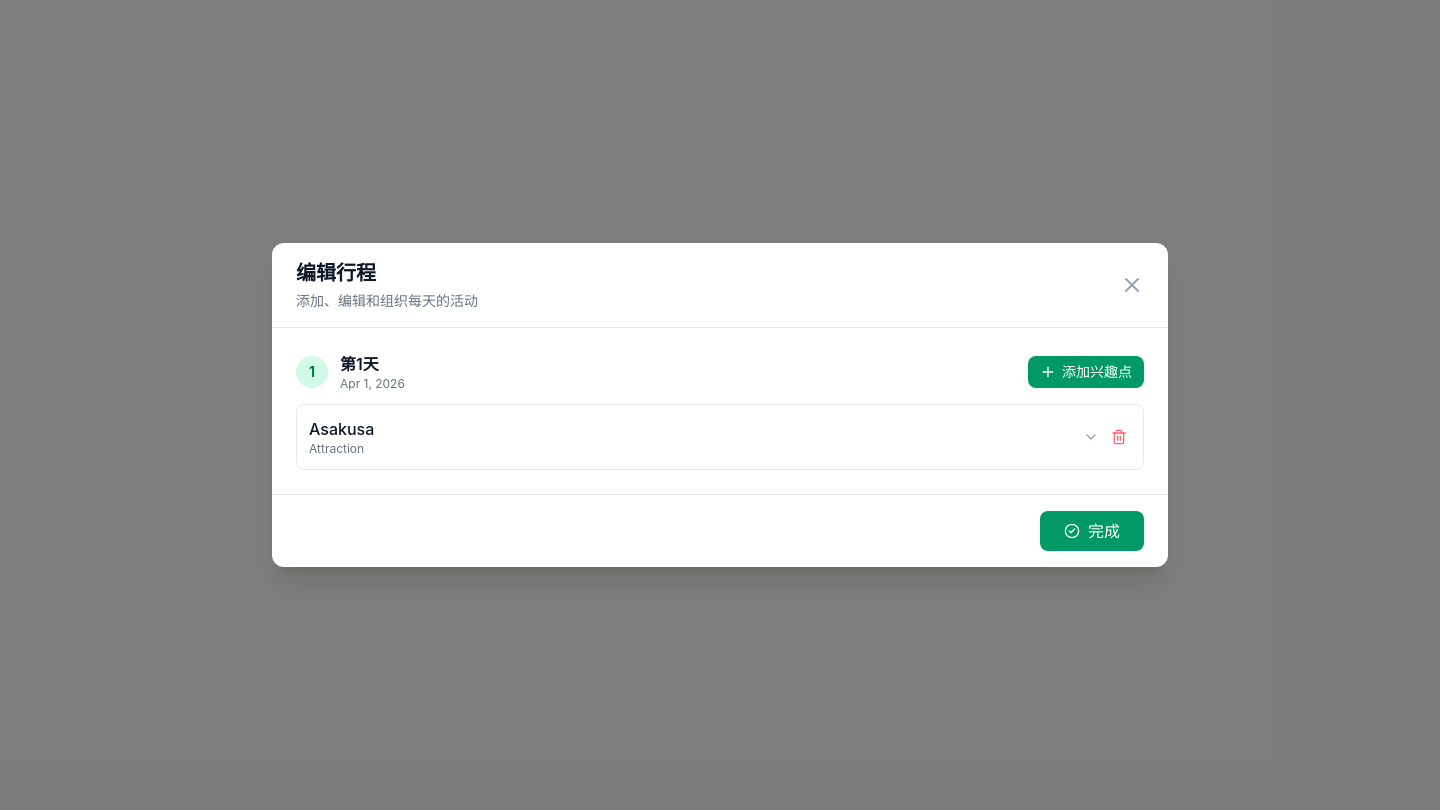
itineraryEditor › removes an item and shows the empty day state
Expected: the heading "Asakusa" is shown, [309,419,374,439]
Step 1. Click the button named "移除" → (1119, 437), box [1107,425,1131,449]
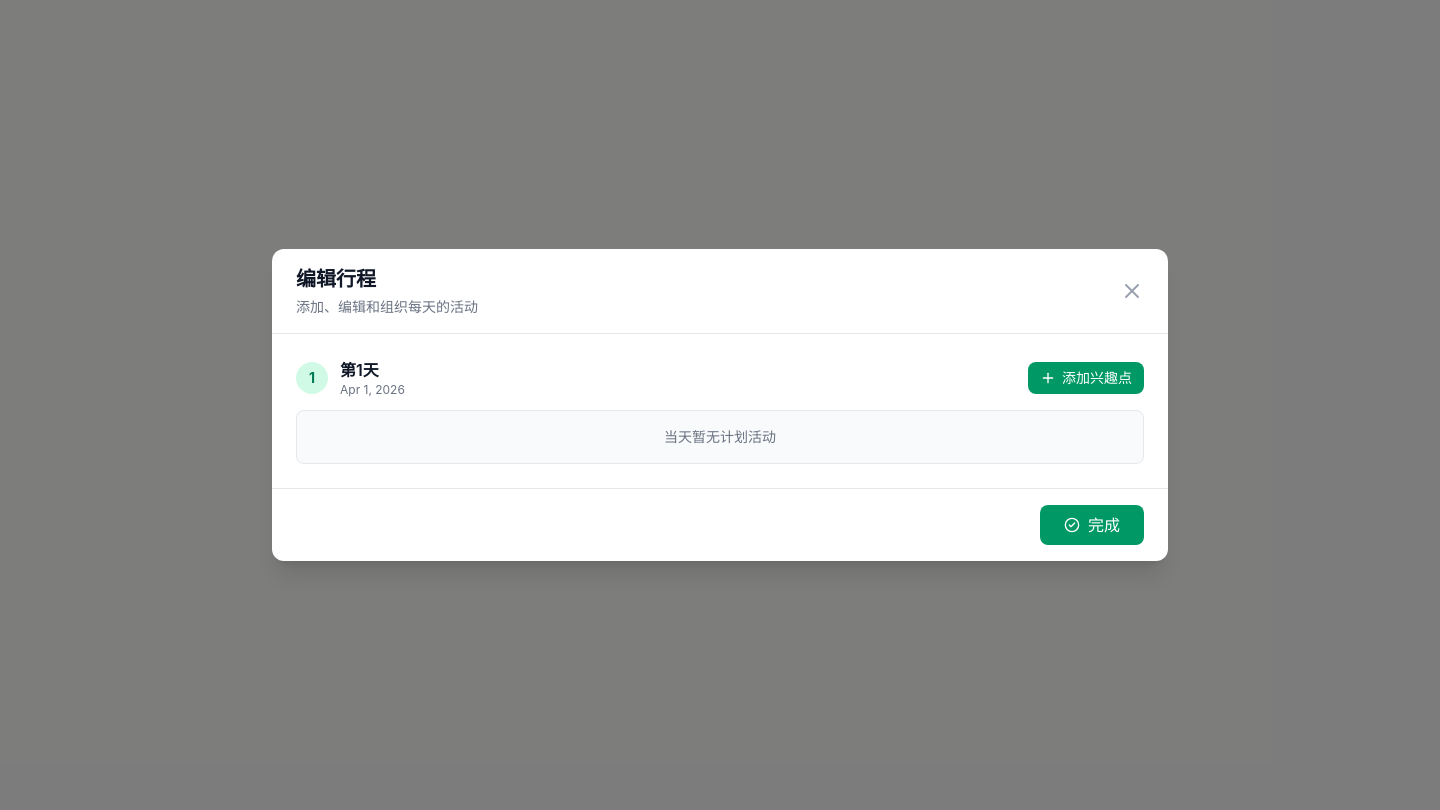
Now the text "当天暂无计划活动" is shown, box [664,428,776,445]
